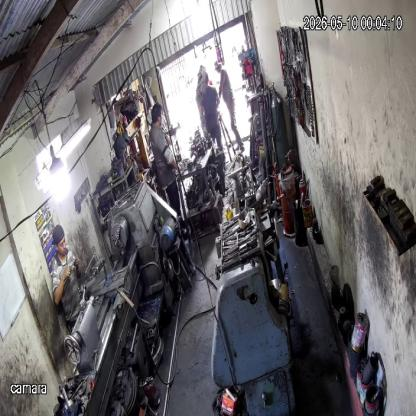sin_lentes: (56, 237, 67, 249)
